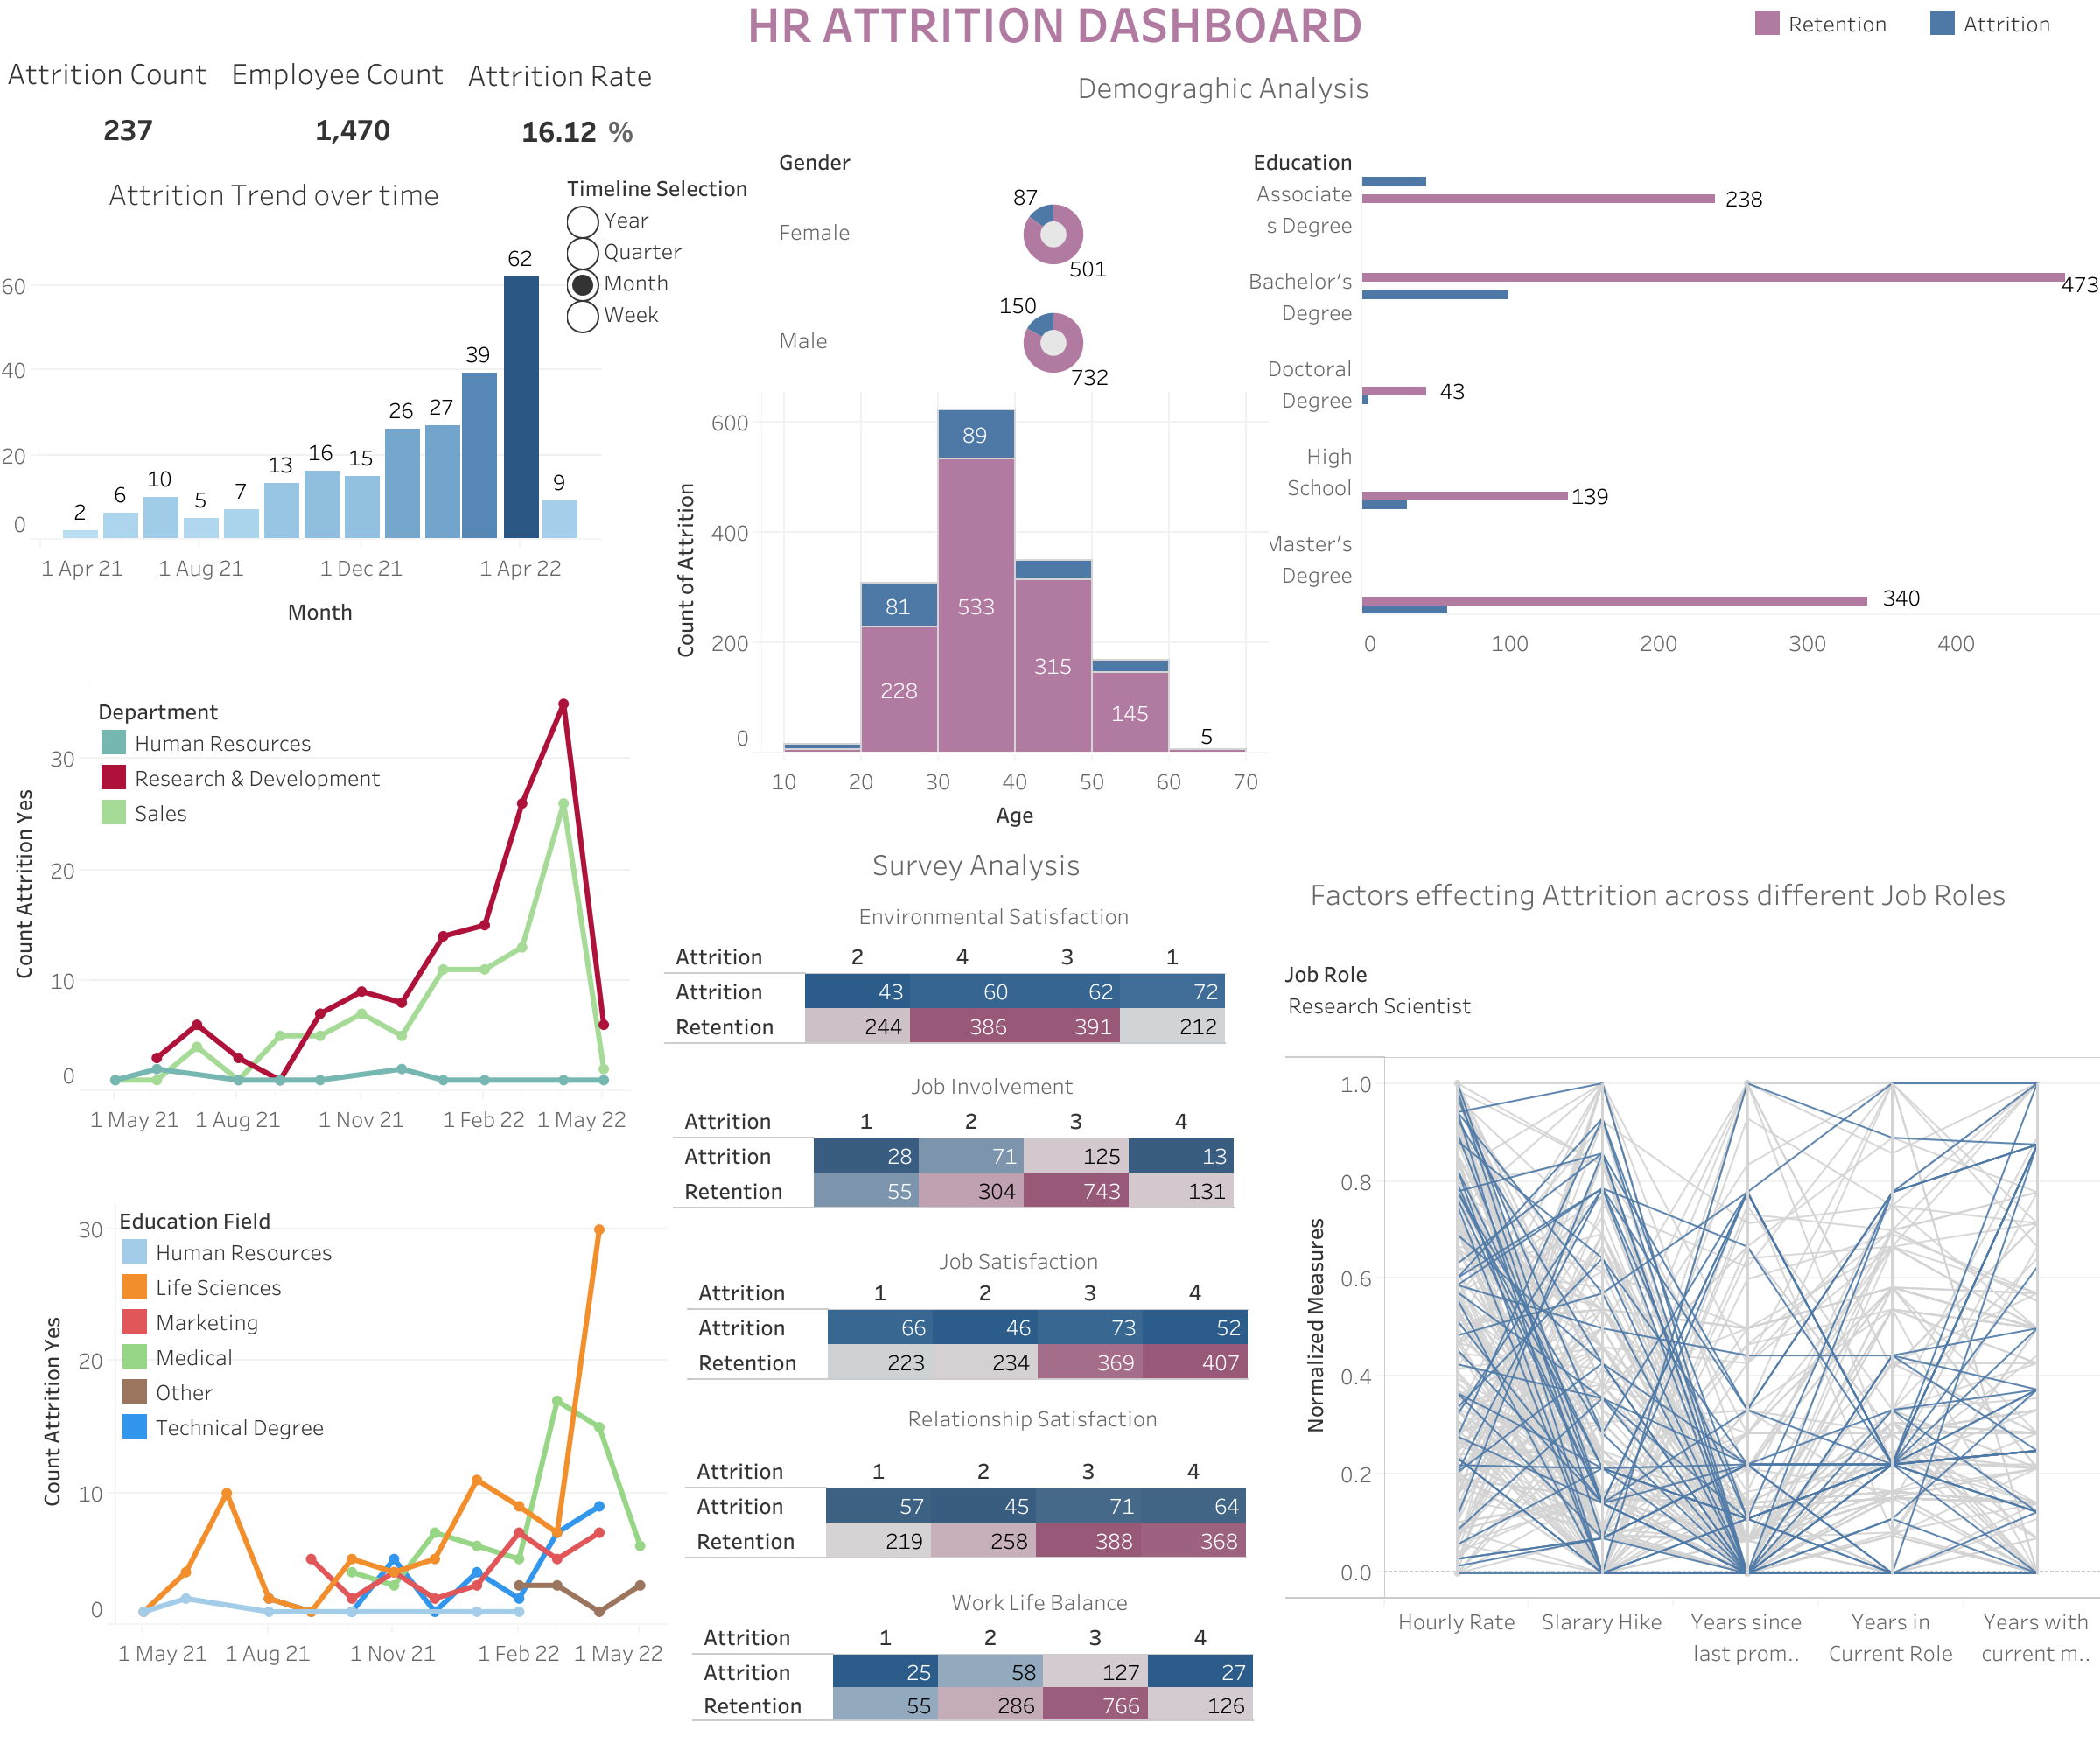

What the dashboard file says about the page in this screenshot:
{"tool":"tableau","page":{"name":"HR Attrition Dashboard","canvas":[1200,1000],"ordinal":0},"visuals":[{"type":"worksheet","title":"Sheet 23","mark":"Automatic","box":[0,24,178,104]},{"type":"worksheet","title":"Sheet 23 (2)","mark":"Automatic","box":[128,24,196,75]},{"type":"worksheet","title":"Sheet 23 (3)","mark":"Automatic","box":[246,25,182,80]},{"type":"text","box":[613,30,208,38]},{"type":"text","box":[345,55,120,38]},{"type":"worksheet","title":"Sheet 12","mark":"Pie","rows":["Gender","Calculation_6390537564645916703","Calculation_6390537564645933089"],"box":[439,61,246,164]},{"type":"parameter","param":"[Parameters].[Parameter 1]","box":[324,97,192,125]},{"type":"worksheet","title":"Sheet 14","mark":"Automatic","rows":["Attrition"],"cols":["Age (bin)"],"box":[375,209,350,265]},{"type":"legend","title":"Sheet 9","param":"[federated.1o2do9y01raryw15ihmvg1viytxt].[none:Department:nk]","box":[55,395,200,97]},{"type":"text","box":[479,472,158,43]},{"type":"text","box":[488,507,201,31]},{"type":"worksheet","title":"Sheet 20","mark":"Square","rows":["Attrition"],"box":[380,520,400,105]},{"type":"parameter","param":"[Parameters].[Parameter 5]","box":[735,569,192,62]},{"type":"text","box":[518,601,120,38]},{"type":"worksheet","title":"Sheet 19","mark":"Square","rows":["Attrition"],"box":[385,614,399,110]},{"type":"worksheet","title":"Sheet 9 (2)","mark":"Line","rows":["Calculation_6390537564504113157"],"cols":["Calculation_6390537564306309124"],"box":[13,672,368,298]},{"type":"legend","title":"Sheet 9 (2)","param":"[federated.1o2do9y01raryw15ihmvg1viytxt].[none:EducationField:nk]","box":[67,686,168,172]},{"type":"text","box":[534,701,120,37]},{"type":"worksheet","title":"Sheet 18","mark":"Square","rows":["Attrition"],"box":[393,713,400,98]},{"type":"text","box":[516,791,179,37]},{"type":"worksheet","title":"Sheet 21","mark":"Square","rows":["Attrition"],"box":[392,815,399,101]},{"type":"text","box":[541,896,128,38]},{"type":"worksheet","title":"Sheet 17","mark":"Square","rows":["Attrition"],"box":[396,910,399,94]}]}

Visuals, with their boxes in screenshot pixels (x1, y1, x2, y2), scaled from the page's 1200x1000 canvas onto the 2100x1750 screenshot:
"Sheet 23" worksheet: 0:42:311:224
"Sheet 23 (2)" worksheet: 224:42:567:173
"Sheet 23 (3)" worksheet: 430:44:749:184
text: 1073:52:1437:119
text: 604:96:814:163
"Sheet 12" worksheet (Pie marks): 768:107:1199:394
parameter: 567:170:903:388
"Sheet 14" worksheet: 656:366:1269:829
"Sheet 9" legend: 96:691:446:861
text: 838:826:1115:901
text: 854:887:1206:941
"Sheet 20" worksheet (Square marks): 665:910:1365:1094
parameter: 1286:996:1622:1104
text: 906:1052:1116:1118
"Sheet 19" worksheet (Square marks): 674:1074:1372:1267
"Sheet 9 (2)" worksheet (Line marks): 23:1176:667:1697
"Sheet 9 (2)" legend: 117:1200:411:1501
text: 934:1227:1144:1291
"Sheet 18" worksheet (Square marks): 688:1248:1388:1419
text: 903:1384:1216:1449
"Sheet 21" worksheet (Square marks): 686:1426:1384:1603
text: 947:1568:1171:1634
"Sheet 17" worksheet (Square marks): 693:1592:1391:1749
